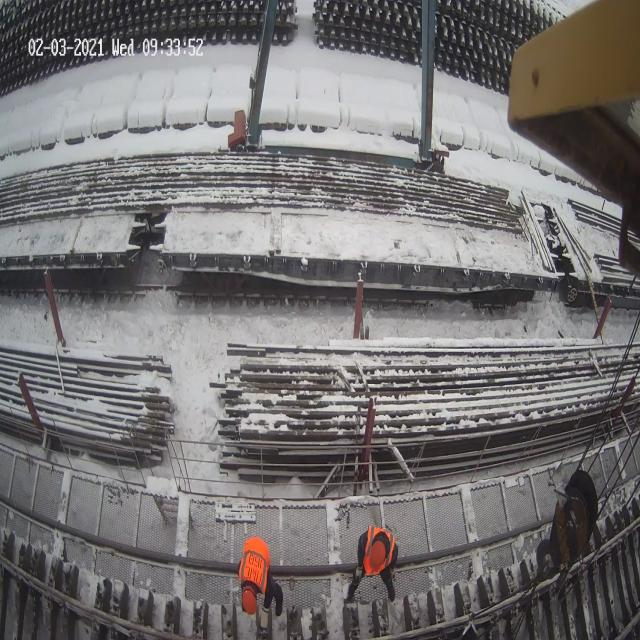Helmet: (238, 536, 270, 594), (361, 541, 394, 576)
Person: (238, 536, 283, 637), (344, 524, 398, 604)
